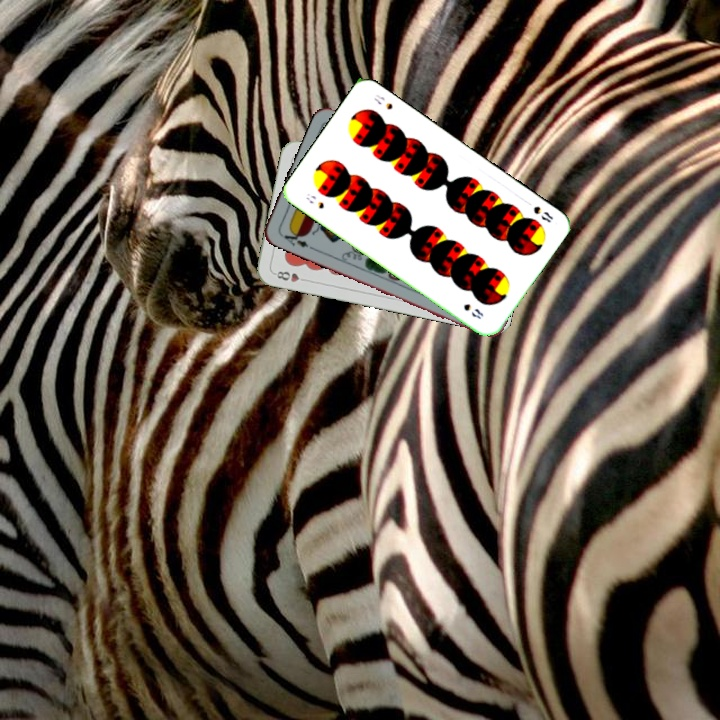EA: (277, 226, 316, 252)
H8: (270, 267, 310, 285)
S8: (529, 202, 556, 225), (302, 189, 327, 212)
